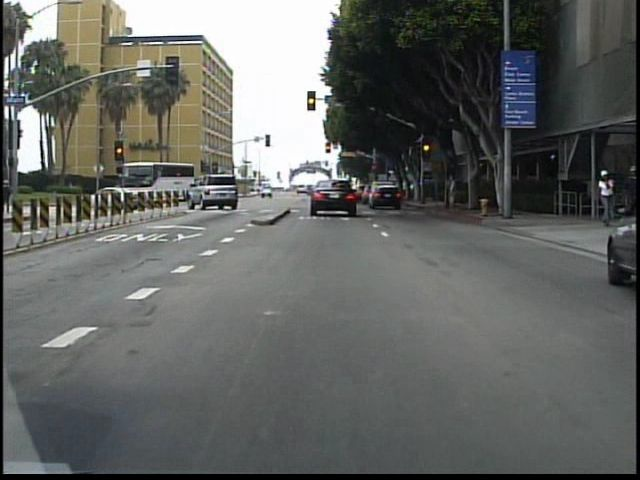person: (619, 162, 638, 223), (443, 168, 460, 212), (4, 177, 16, 214)
